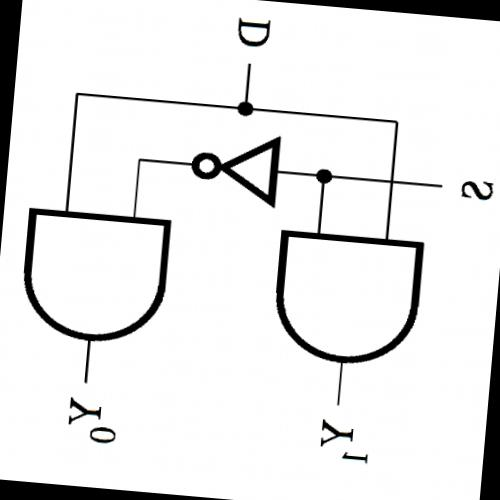and: (258, 218, 435, 380), (7, 194, 180, 359)
not: (179, 120, 292, 217)
